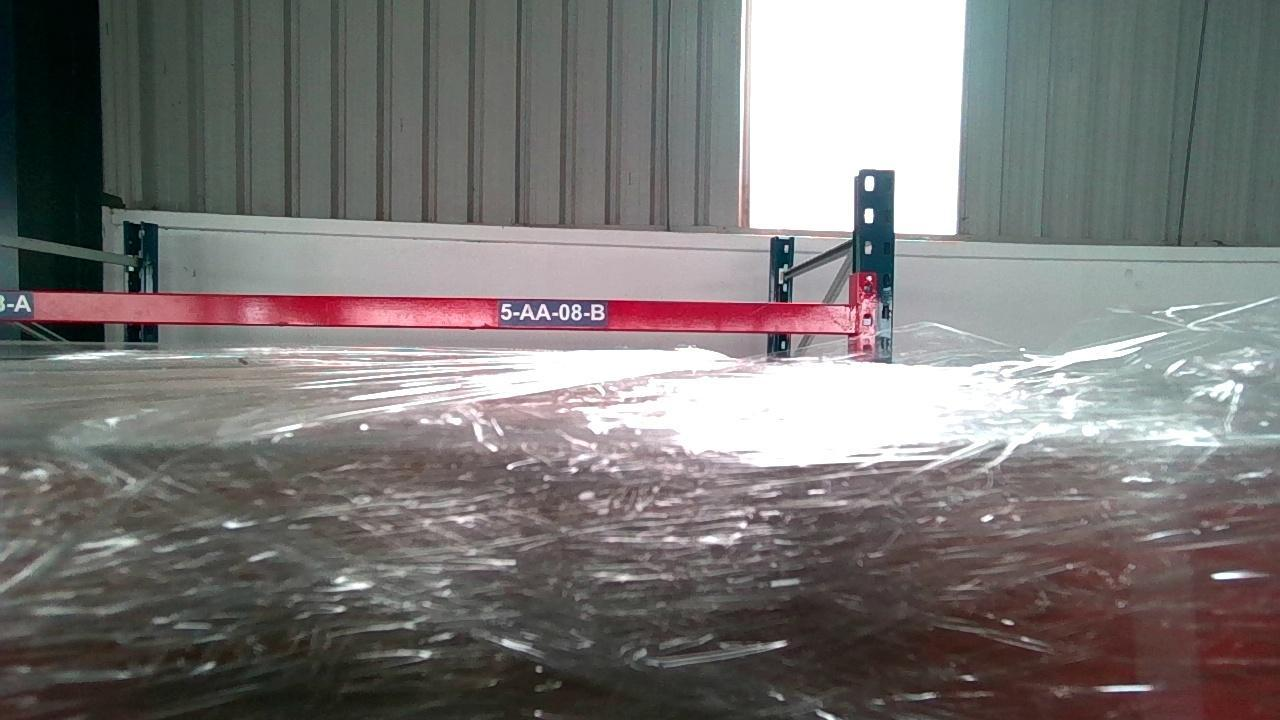h_rack: (0, 288, 856, 331)
